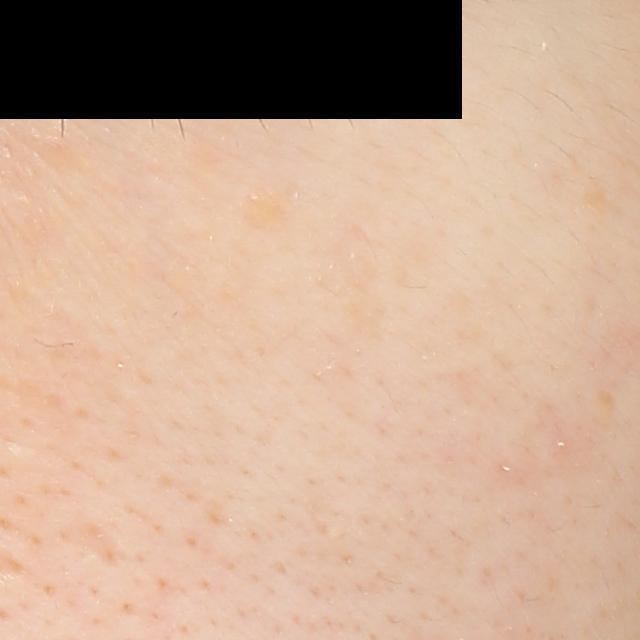atrophic_scar: (65, 521, 131, 574)
